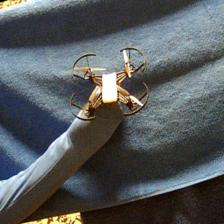drone: (69, 45, 150, 120)
